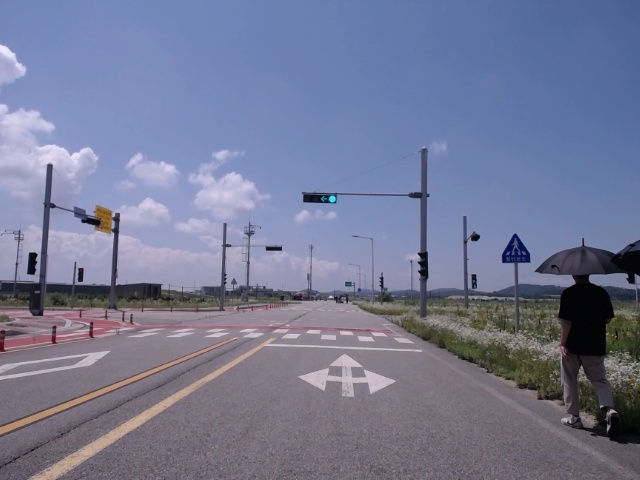all_green_4: (299, 191, 338, 204)
